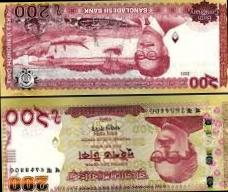200 tk: (0, 95, 228, 192), (0, 0, 228, 93)
